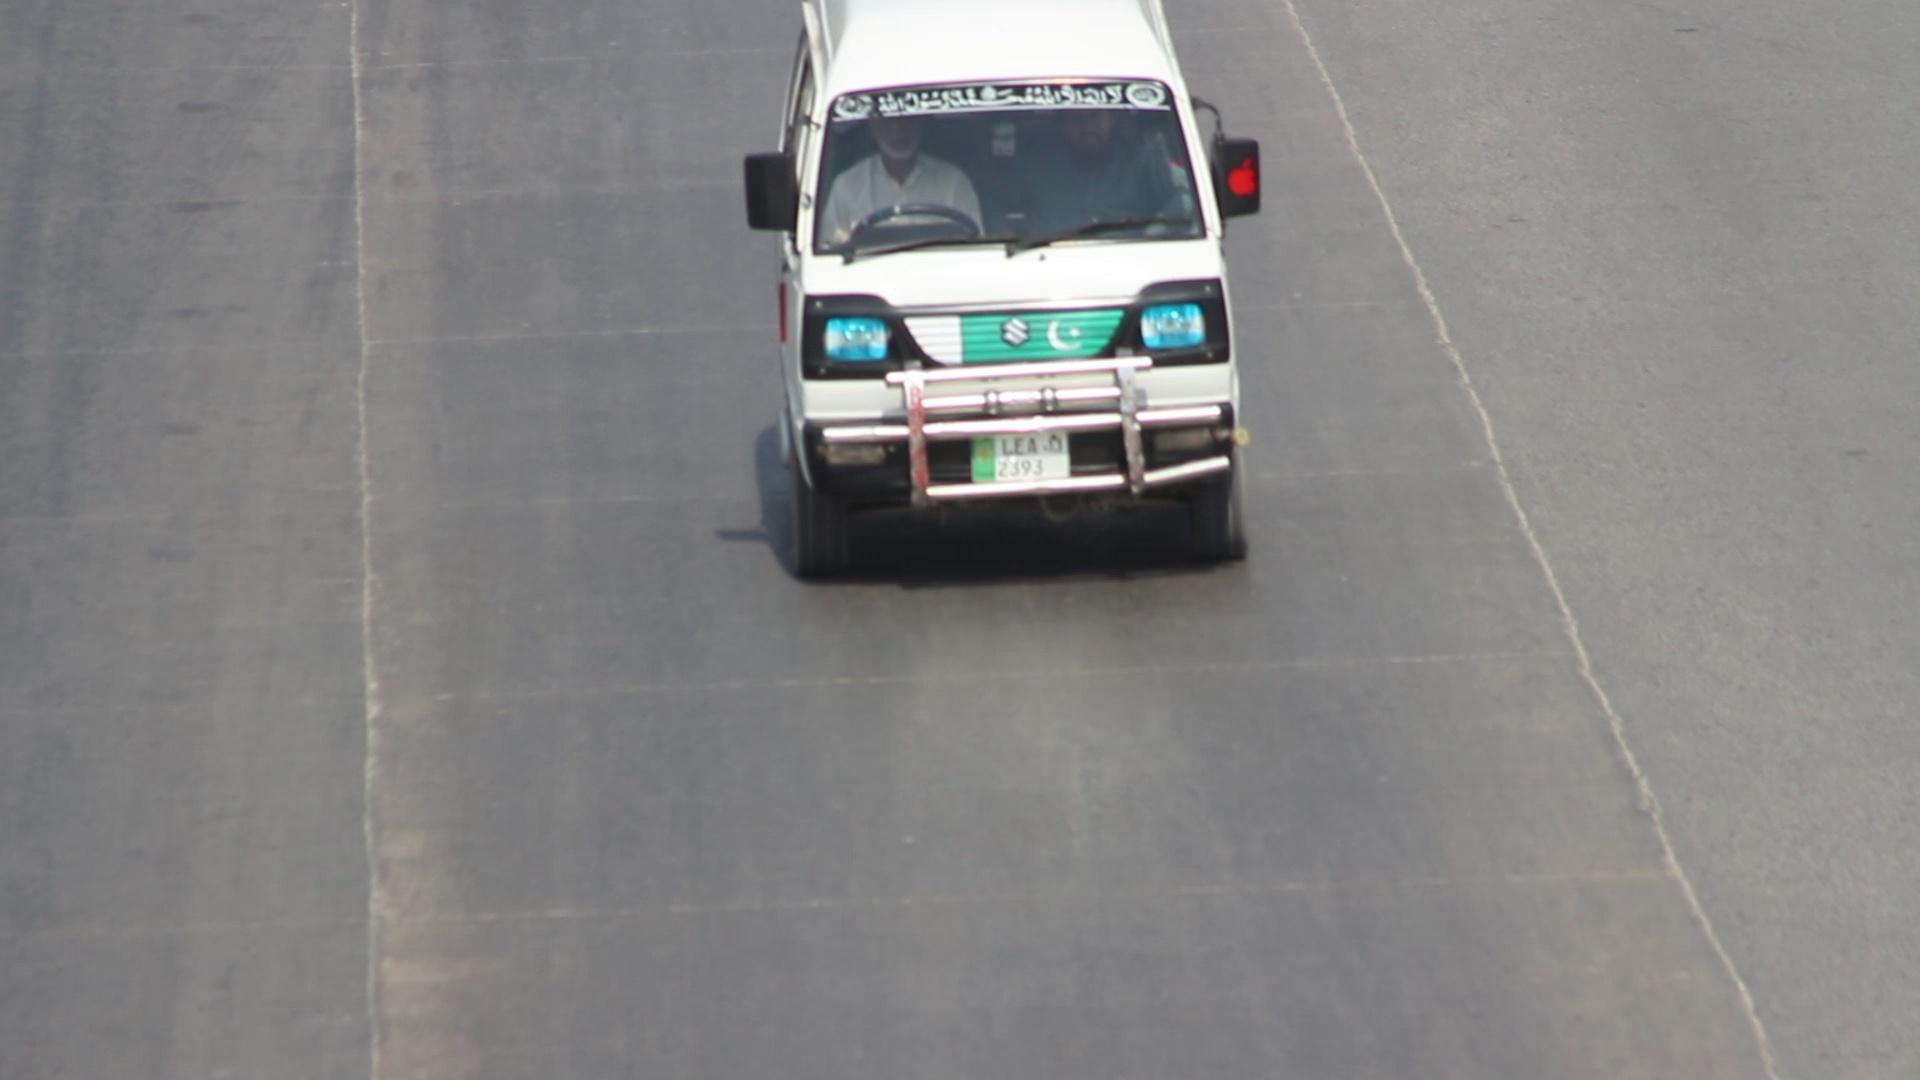windshield: (804, 59, 1228, 277)
